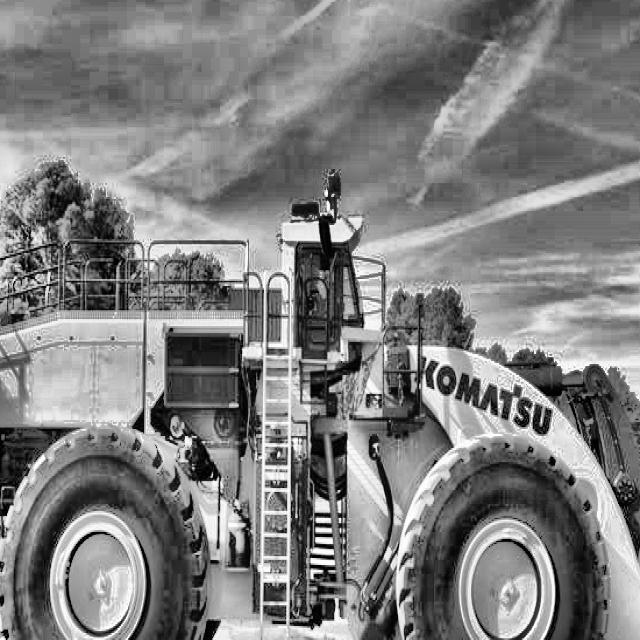buldozerpayloadergrader: (0, 195, 640, 640)
